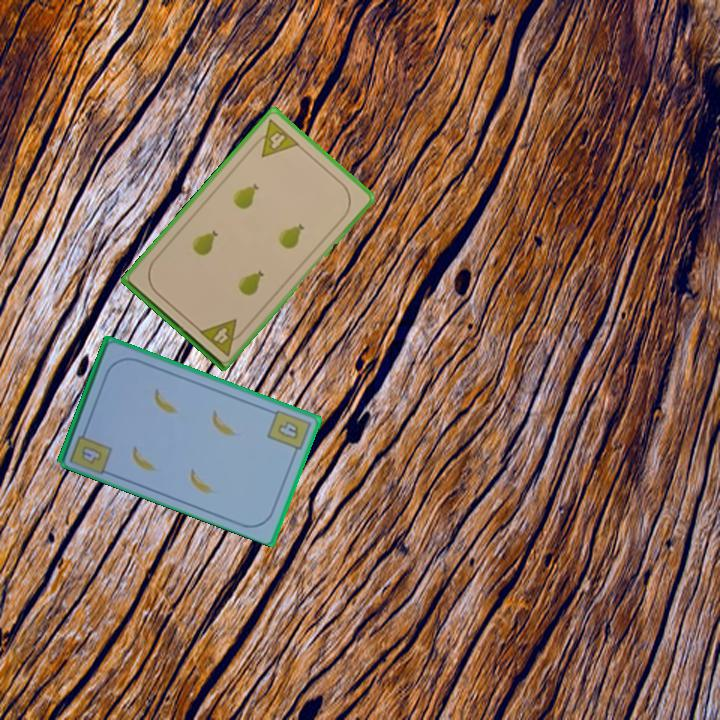4b: (264, 406, 314, 459), (78, 442, 105, 467)
4p: (248, 115, 302, 160), (195, 315, 249, 359)
